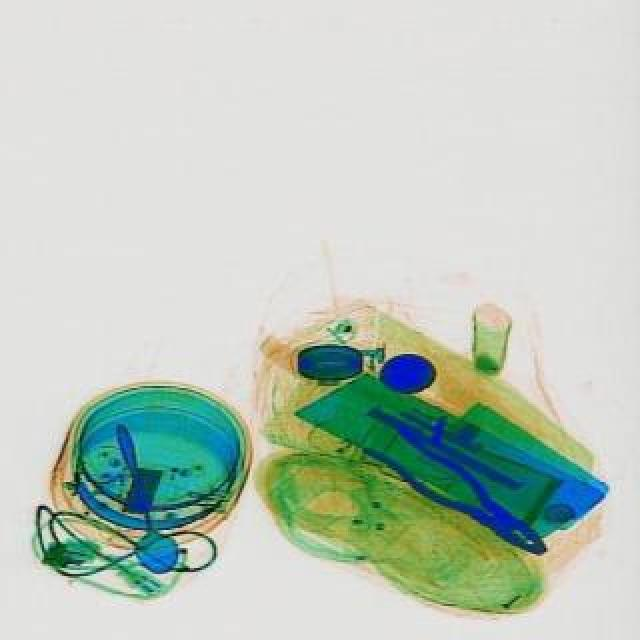wrench: (364, 410, 566, 574)
